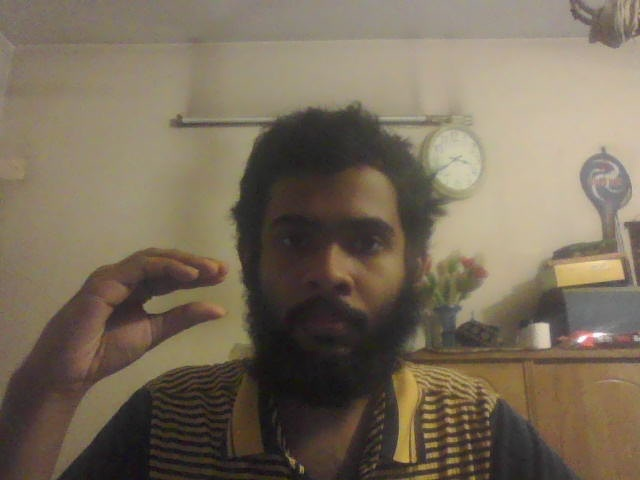No: (48, 249, 229, 371)
